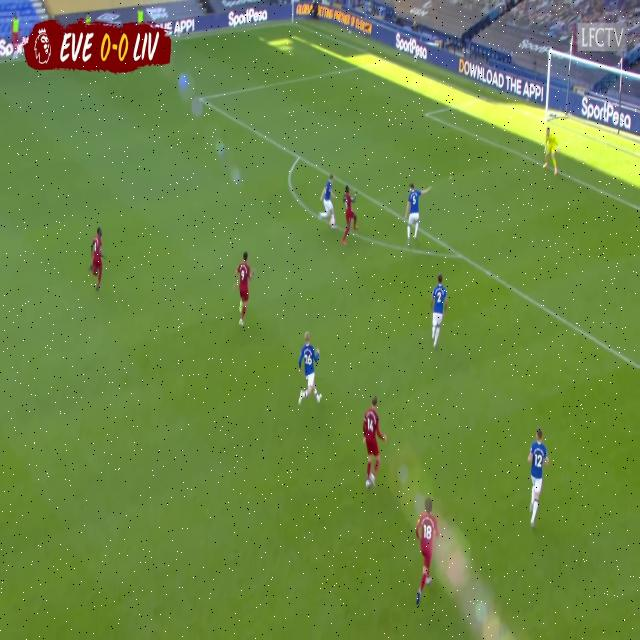Ball: (330, 218, 336, 228)
GoalKeeper: (540, 125, 562, 182)
TEAM 1: (410, 488, 440, 610), (358, 389, 384, 493), (233, 248, 254, 327), (86, 220, 106, 298), (343, 180, 359, 250)
TEAM 2: (521, 424, 549, 529), (296, 320, 324, 416), (404, 177, 434, 246), (428, 267, 450, 353), (320, 165, 335, 233)
